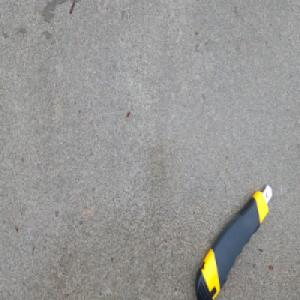Cutter: (192, 178, 273, 298)
